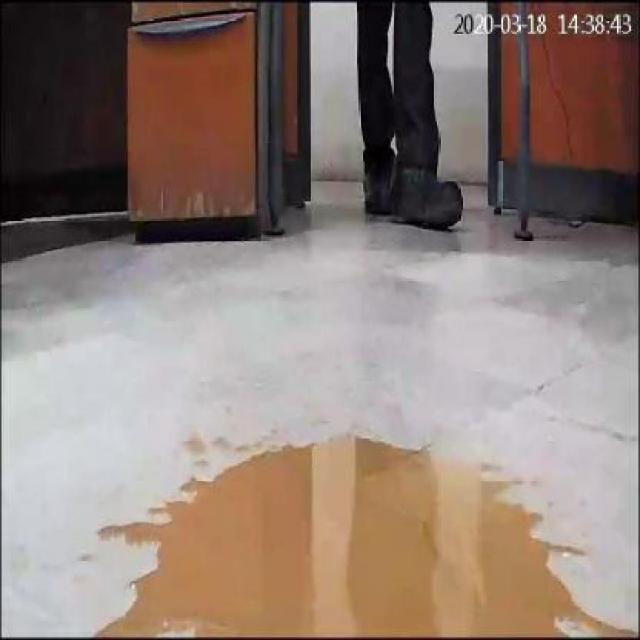spill: (83, 432, 637, 638)
